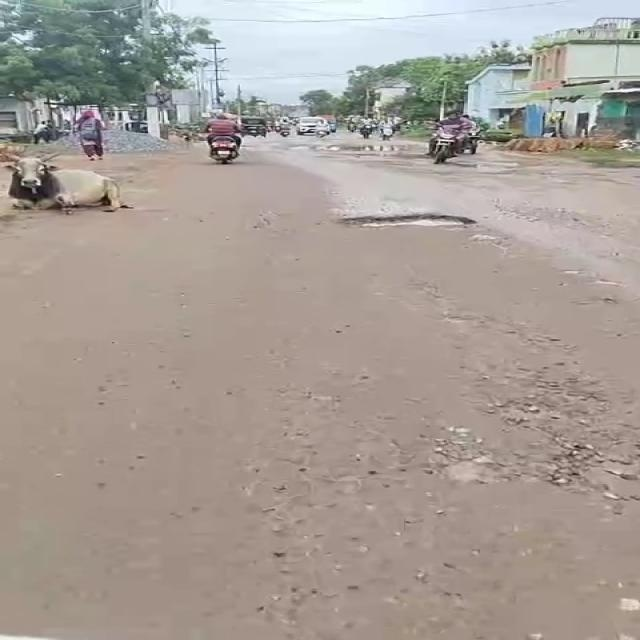pothole: (549, 436, 640, 501), (487, 396, 631, 436), (413, 439, 508, 489), (487, 363, 601, 392), (322, 210, 466, 226), (403, 281, 466, 311), (292, 143, 407, 157), (448, 157, 524, 178), (440, 314, 499, 326), (577, 294, 619, 310), (463, 230, 509, 244), (552, 266, 586, 279)
